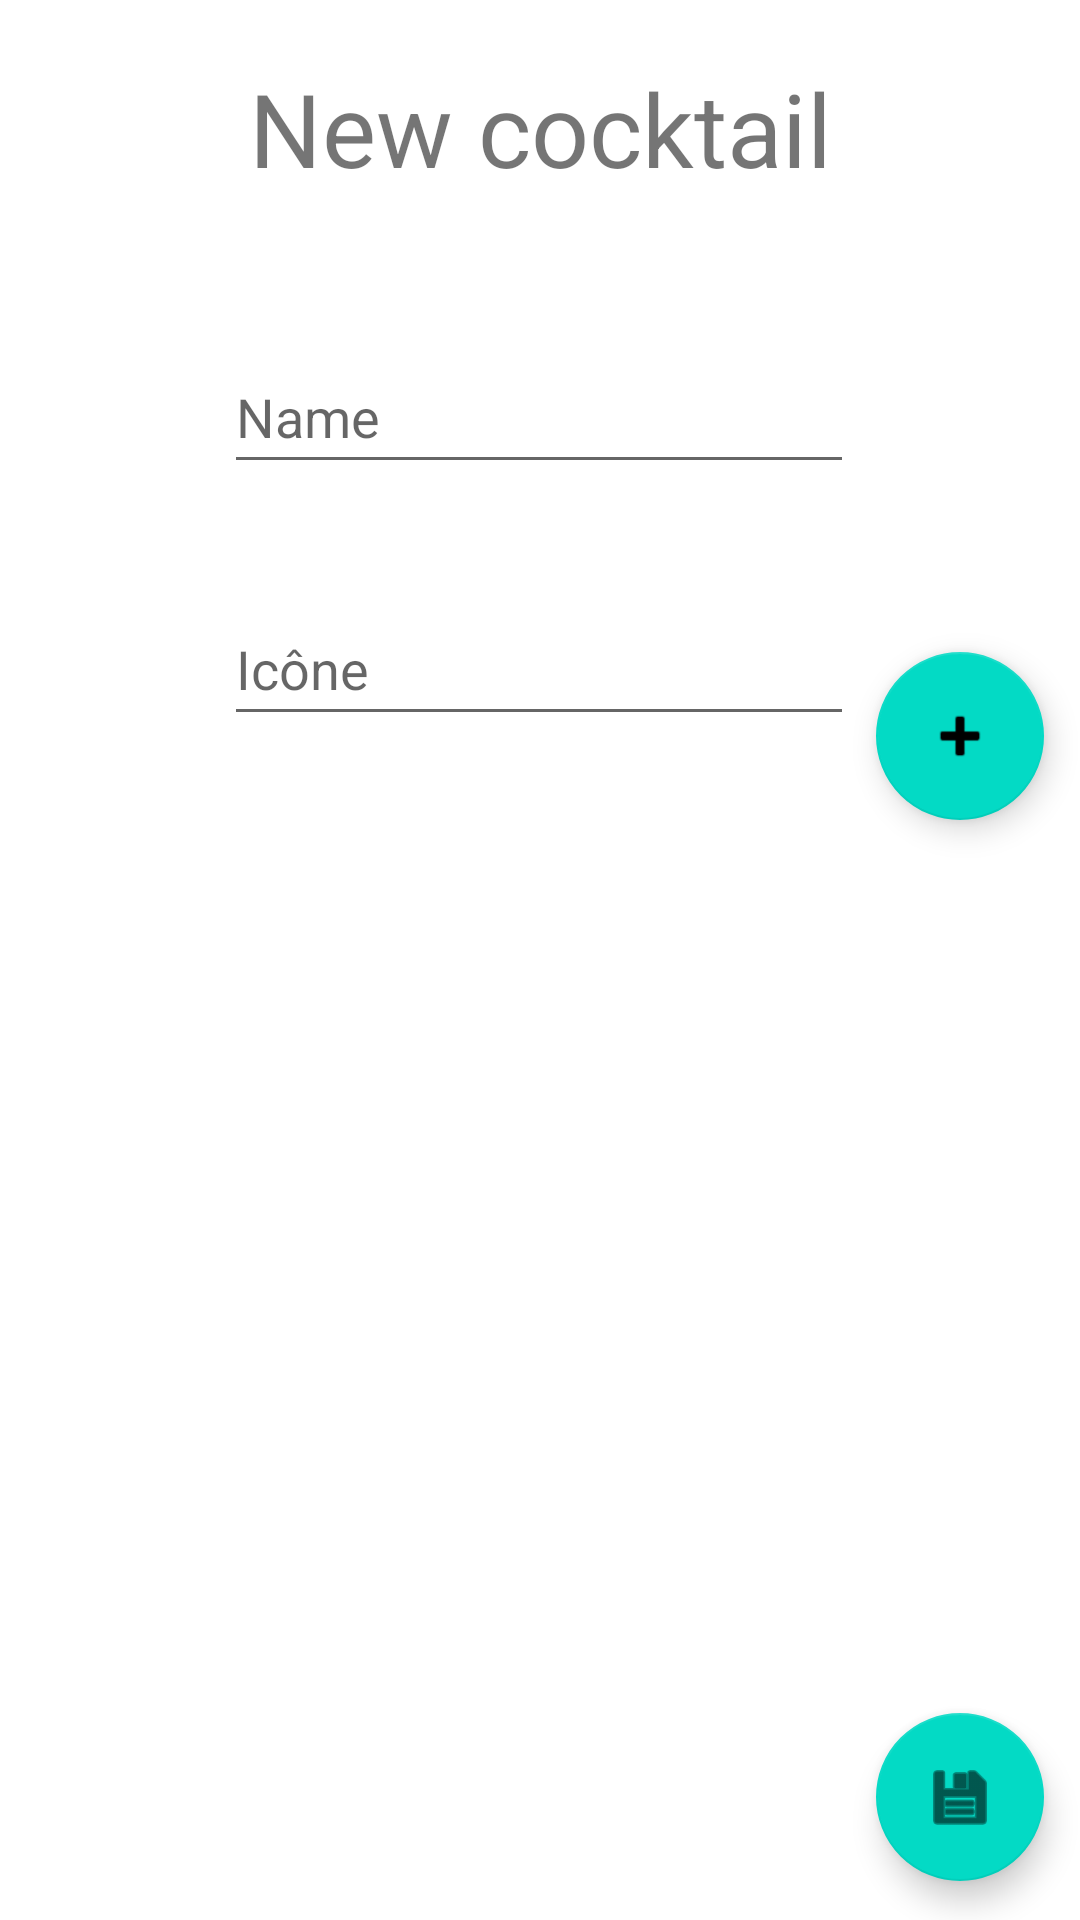

Named icons in this screenshot (1080×1920) and their centers, (x,y):
add: (960,736)
save: (960,1797)
